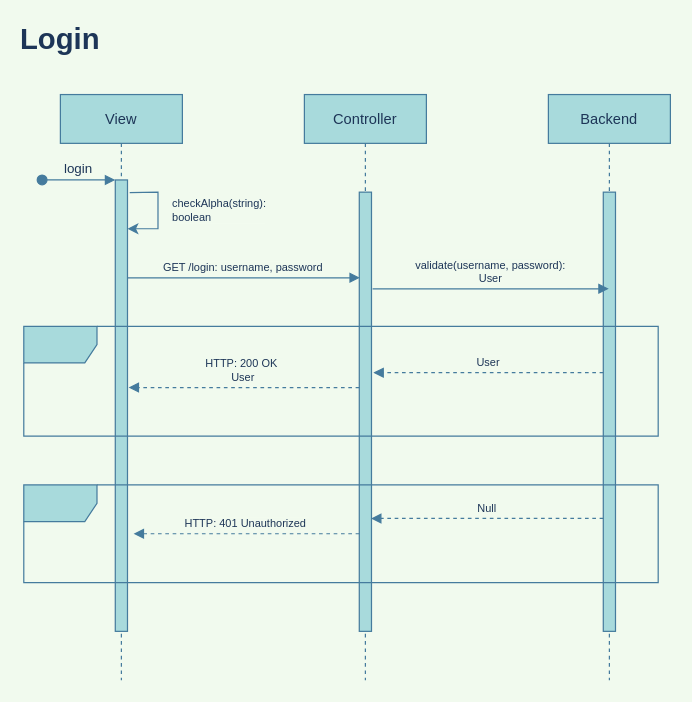
The diagram is 692 pixels wide and 702 high, and some of its shapes have lost their labels. The shapes that lost their labels are listed below. From the top down, each one's centre as x and y in pixels, then its label:
[340,380]: Login Success
[340,533]: Login Failed
